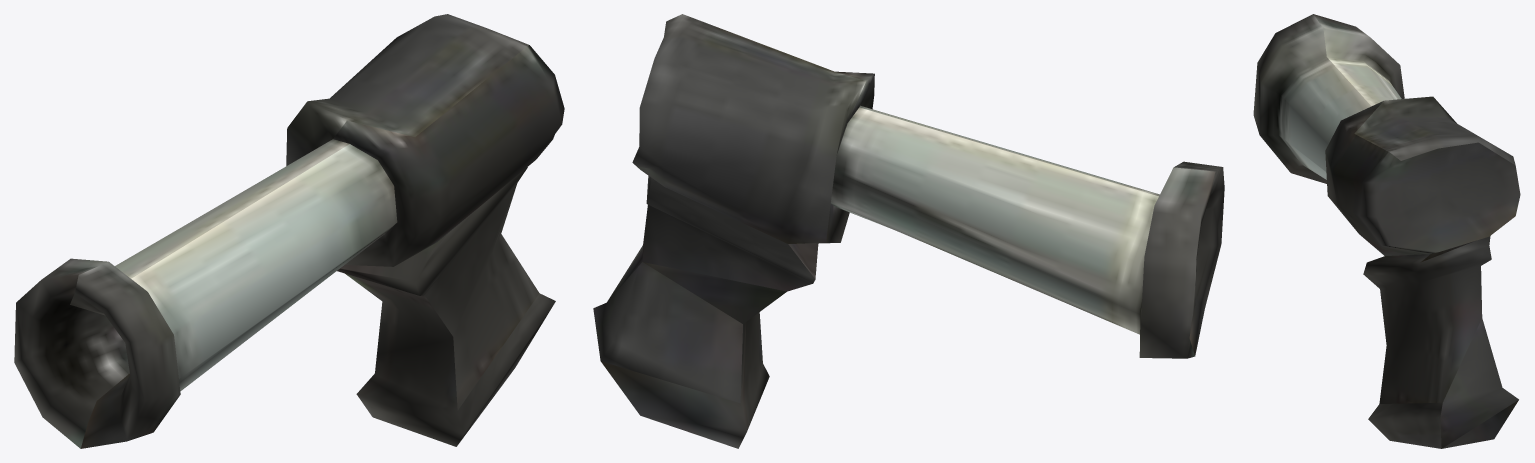
Rendered from glass-launcher.glb.
3 views of the same model, side by side, from view 1: azimuth 30°, elevation 25°; view 2: azimuth 150°, elevation 25°; view 3: azimuth 270°, elevation 25° (orthographic). The views are drawn at different scales.
Parts seen in each view (by area): view 1: glass-launcher; view 2: glass-launcher; view 3: glass-launcher.
Boxes of the visible parts, box(x1,y1,x2,y2) form: glass-launcher: box(14, 14, 564, 448); glass-launcher: box(593, 14, 1224, 448); glass-launcher: box(1253, 14, 1520, 448).
Bounding box in the file's own units: 0.2245 × 0.1445 × 0.109.
1 material, 1 textured.
